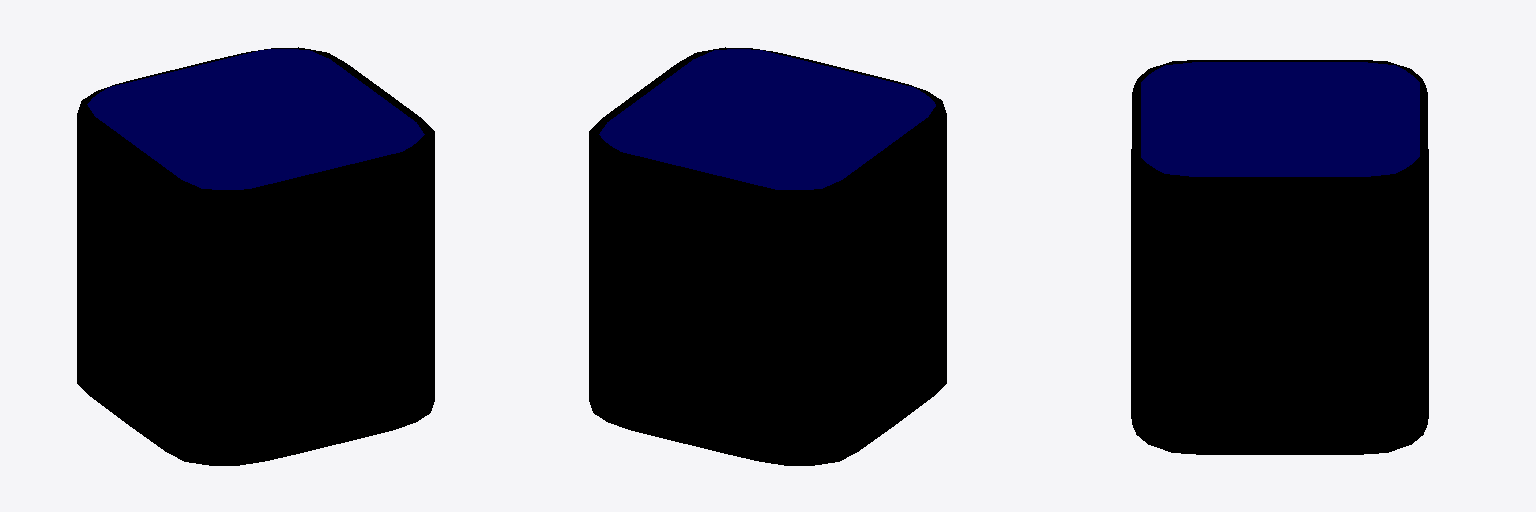
The model's file is centerB.obj.
3 renders of one model, left to right at view 1: azimuth 30°, elevation 25°; view 2: azimuth 150°, elevation 25°; view 3: azimuth 270°, elevation 25°, orthographic.
Parts seen in each view (by area): view 1: BasicCenter_Plane.007, CenterSide_Plane.010; view 2: BasicCenter_Plane.007, CenterSide_Plane.010; view 3: BasicCenter_Plane.007, CenterSide_Plane.010.
Part boxes in pixels (left/top/right/bottom): BasicCenter_Plane.007: left=77, top=47, right=434, bottom=465; CenterSide_Plane.010: left=87, top=49, right=424, bottom=189; BasicCenter_Plane.007: left=589, top=47, right=946, bottom=465; CenterSide_Plane.010: left=599, top=49, right=935, bottom=189; BasicCenter_Plane.007: left=1131, top=60, right=1428, bottom=454; CenterSide_Plane.010: left=1141, top=62, right=1419, bottom=176.
Bounding box in the file's own units: 0.18 × 0.1815 × 0.18.